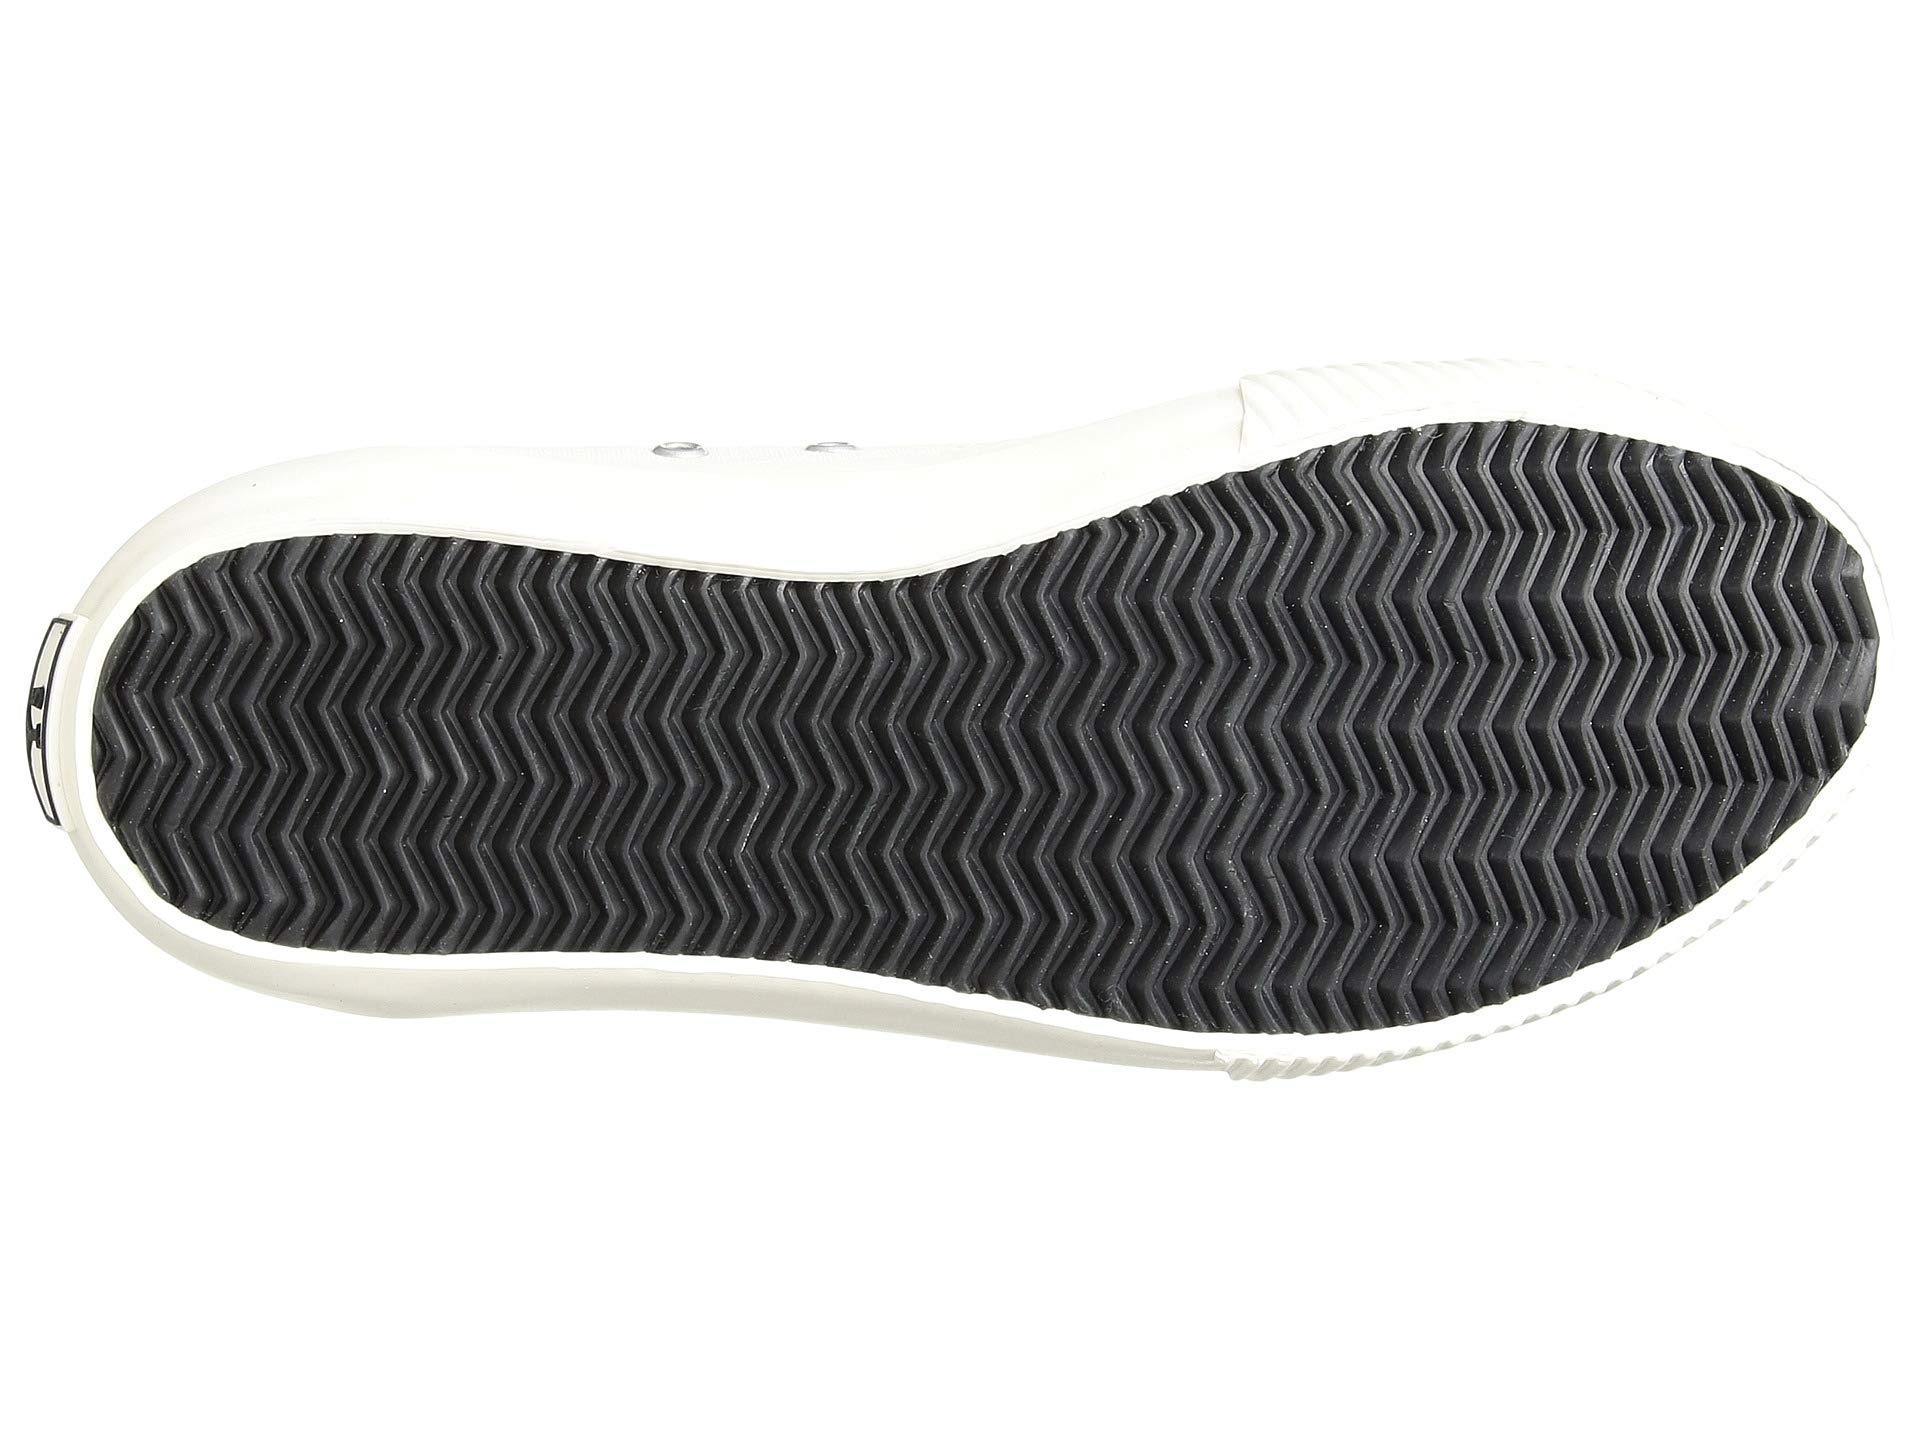chevron: (1028, 542, 1451, 971)
